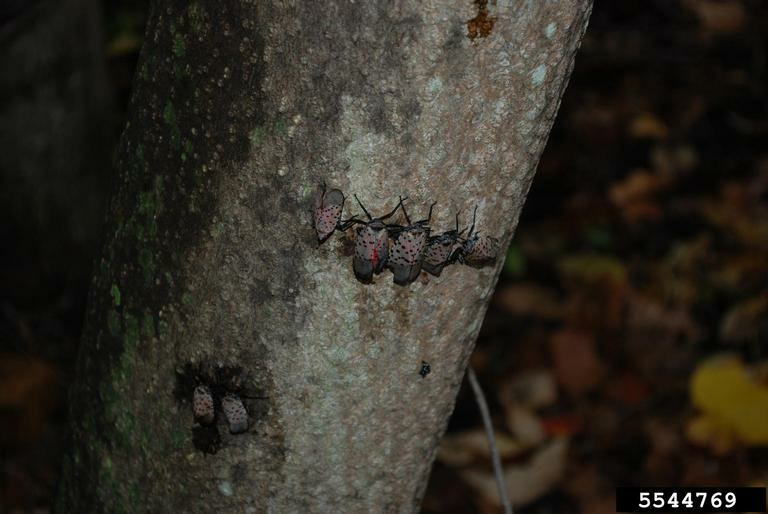adult: (347, 194, 386, 281), (388, 203, 418, 283), (310, 181, 342, 244), (451, 227, 497, 265), (419, 218, 450, 270), (219, 397, 244, 430), (193, 387, 213, 420)
